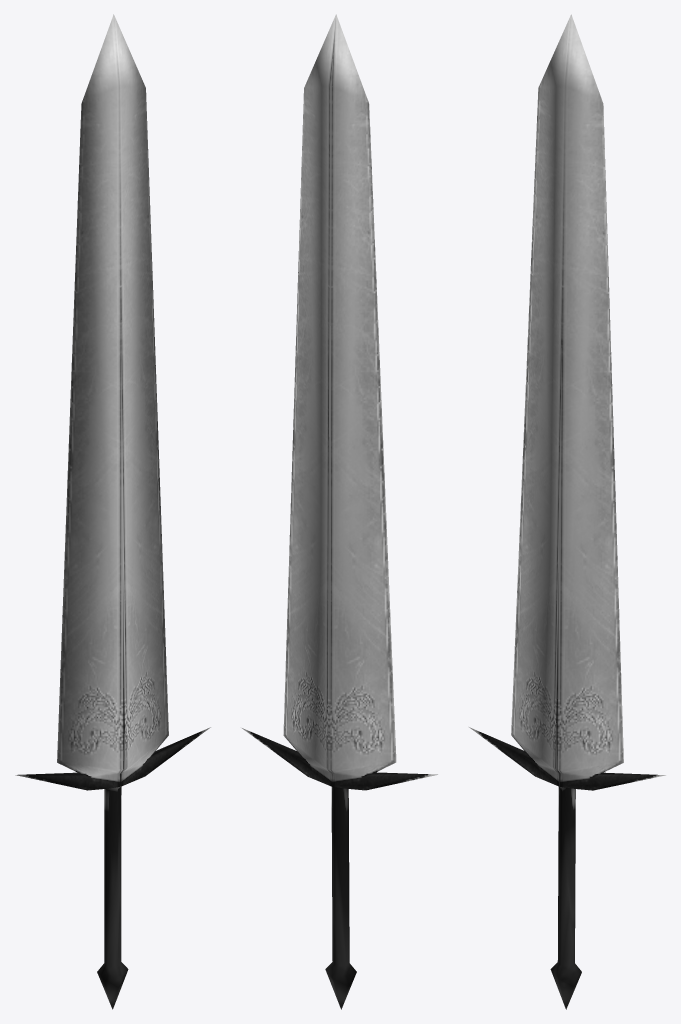
File: Swordm.fbx
The picture shows the model from 3 angles, left to right: view 1: azimuth 30°, elevation 25°; view 2: azimuth 150°, elevation 25°; view 3: azimuth 330°, elevation 25°; orthographic projection.
Parts seen in each view (by area): view 1: Maria_sword; view 2: Maria_sword; view 3: Maria_sword.
Part boxes in pixels (x1=…): Maria_sword: x1=15, y1=14, x2=210, y2=1009; Maria_sword: x1=242, y1=14, x2=437, y2=1009; Maria_sword: x1=469, y1=14, x2=665, y2=1009.
Size of the model in its own units: 30.95 by 149 by 6.13.
